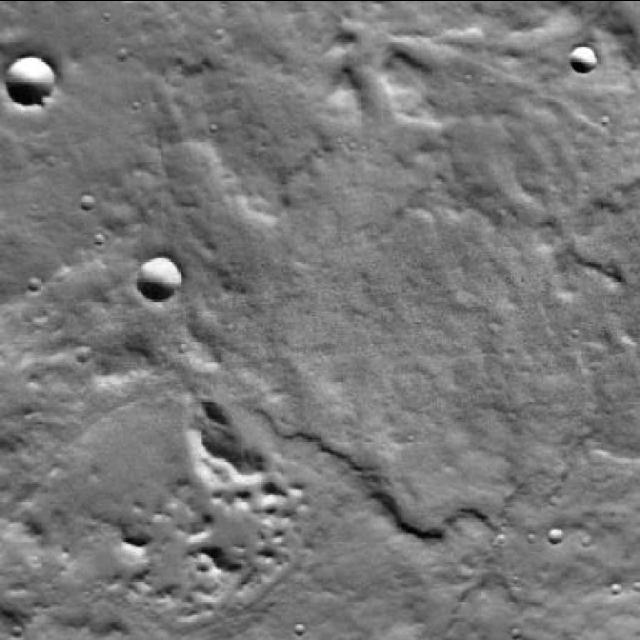crater: (6, 49, 54, 100), (136, 254, 182, 300), (568, 44, 597, 73), (77, 193, 94, 210), (545, 530, 561, 546)
